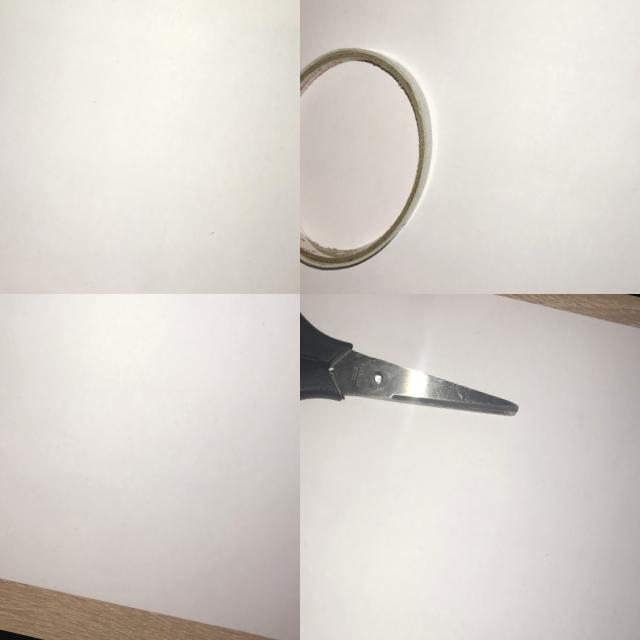scissors: (300, 294, 541, 503)
scotch: (300, 19, 465, 294)
